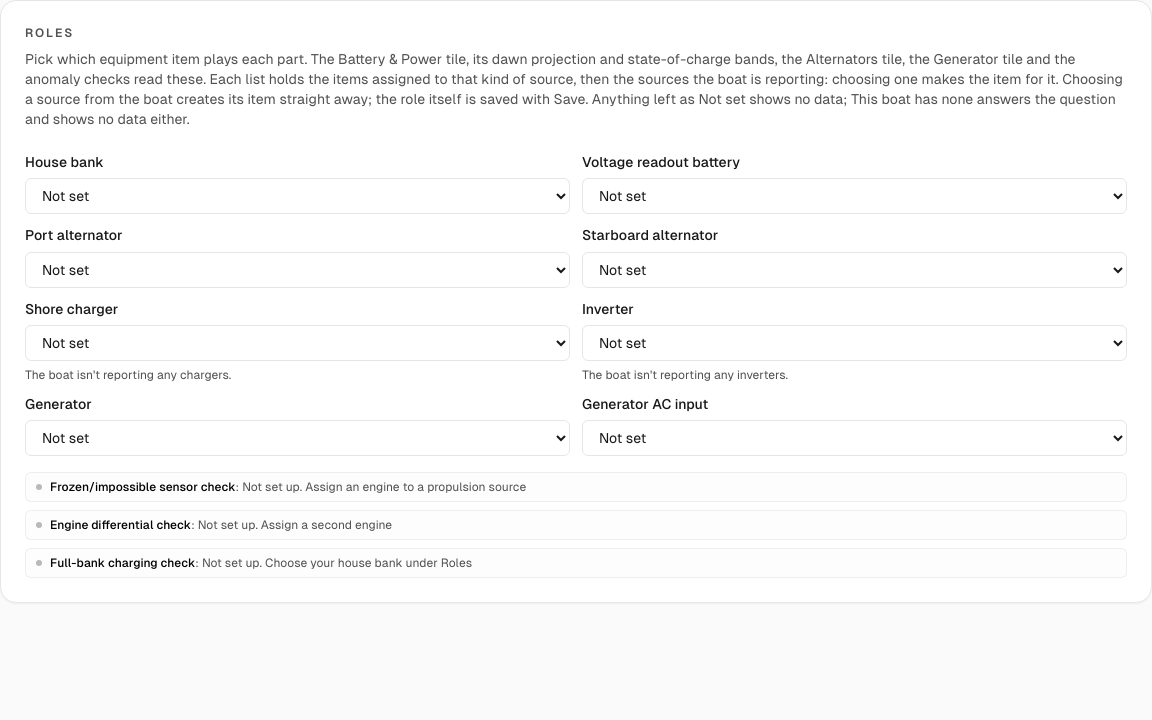
Test: Settings -> SignalK -> Roles: choosing from what the boat reports › shows the error and leaves the role unchanged when the item cannot be created
Select "Batrium-BMS · electrical.batteries.0 · 27.20 V · 79%" in the dropdown labelled "House bank" at {"x": 298, "y": 196}, box [25,178,570,214]
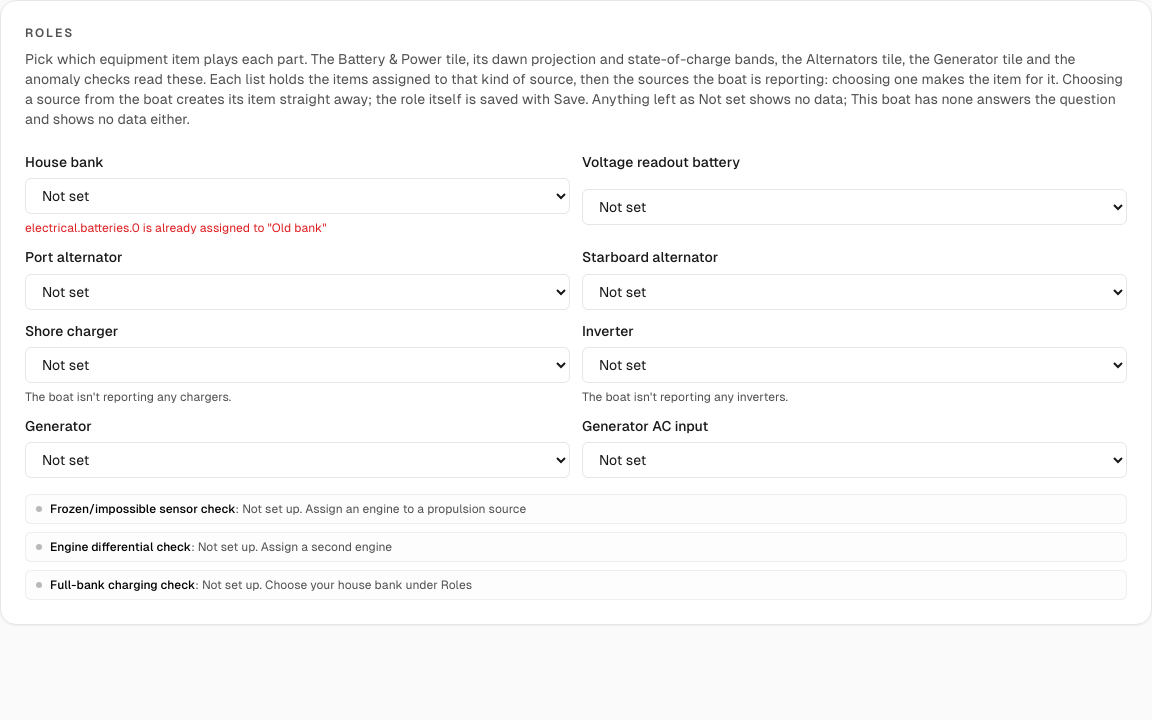
Now the message shows "already assigned to \"Old bank\"", box [25,221,326,235]
